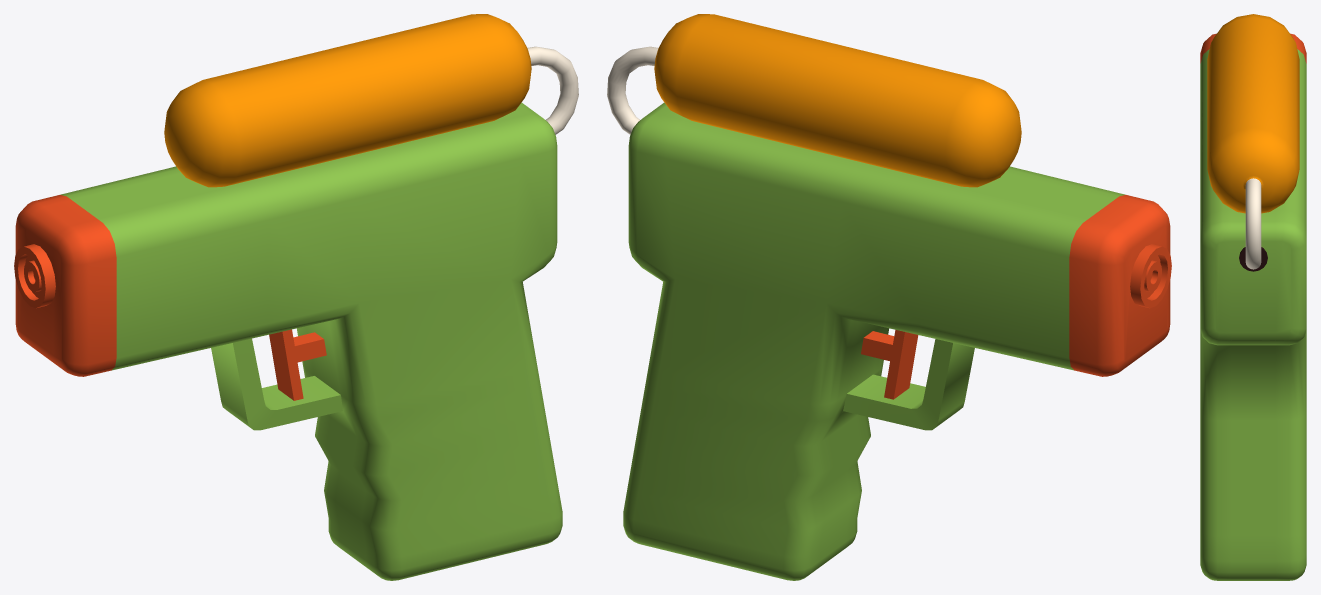
File: water_pistol.glb
The picture shows the model from 3 angles, left to right: view 1: azimuth 30°, elevation 25°; view 2: azimuth 150°, elevation 25°; view 3: azimuth 270°, elevation 25°; orthographic projection. The views are drawn at different scales.
Parts seen in each view (by area): view 1: Cube.996; view 2: Cube.996; view 3: Cube.996.
Part boxes in pixels (<box>): Cube.996: <box>14,14,578,580</box>; Cube.996: <box>607,14,1171,580</box>; Cube.996: <box>1200,14,1306,580</box>.
Size of the model in its own units: 2.16 by 1.95 by 0.432.
1 material, 1 textured.
